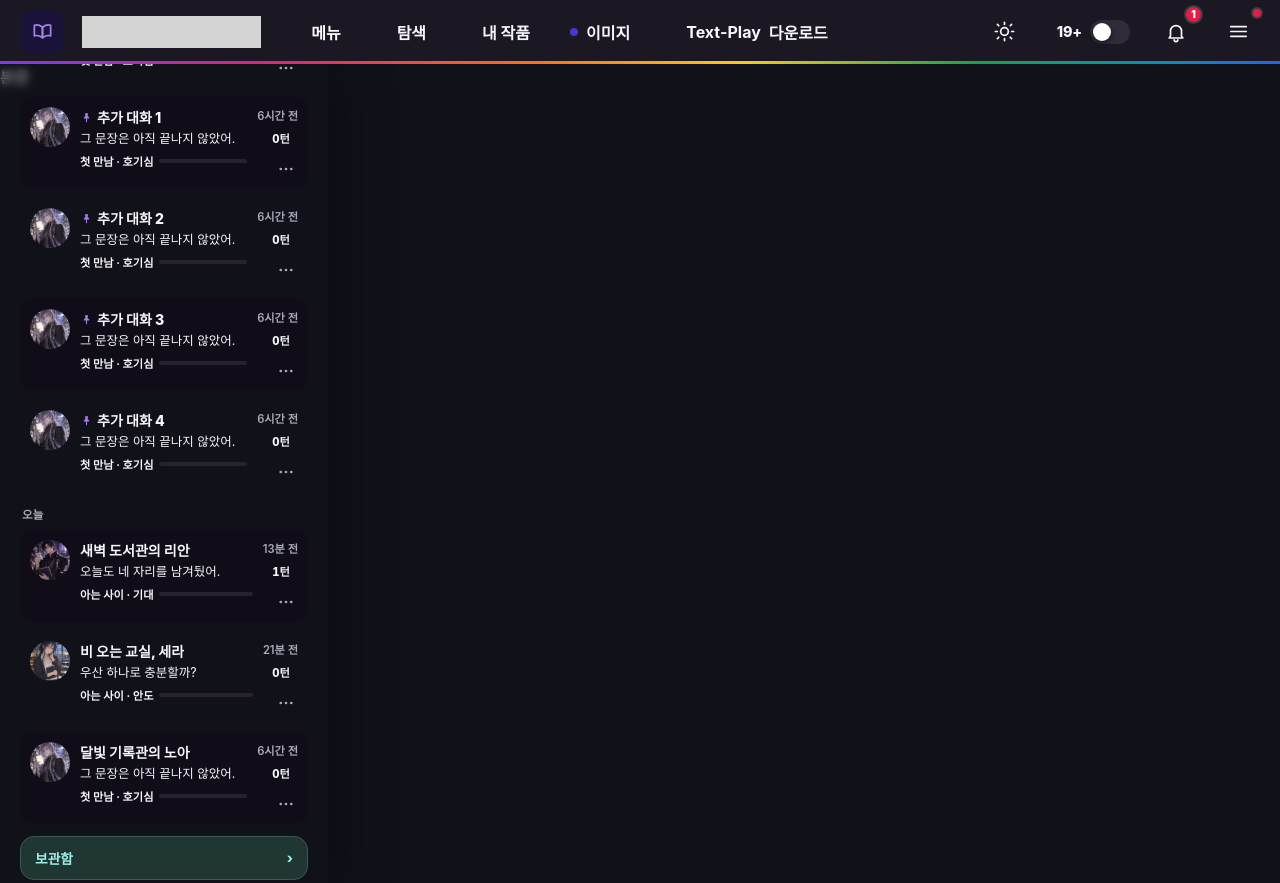
Test case: 왼쪽 대화방 창 › 고정이 5개면 더 고정하지 않고 안내한다
(page scrolled)
Click the button named "새벽 도서관의 리안 더보기" at (286, 602), box [270, 588, 302, 616]
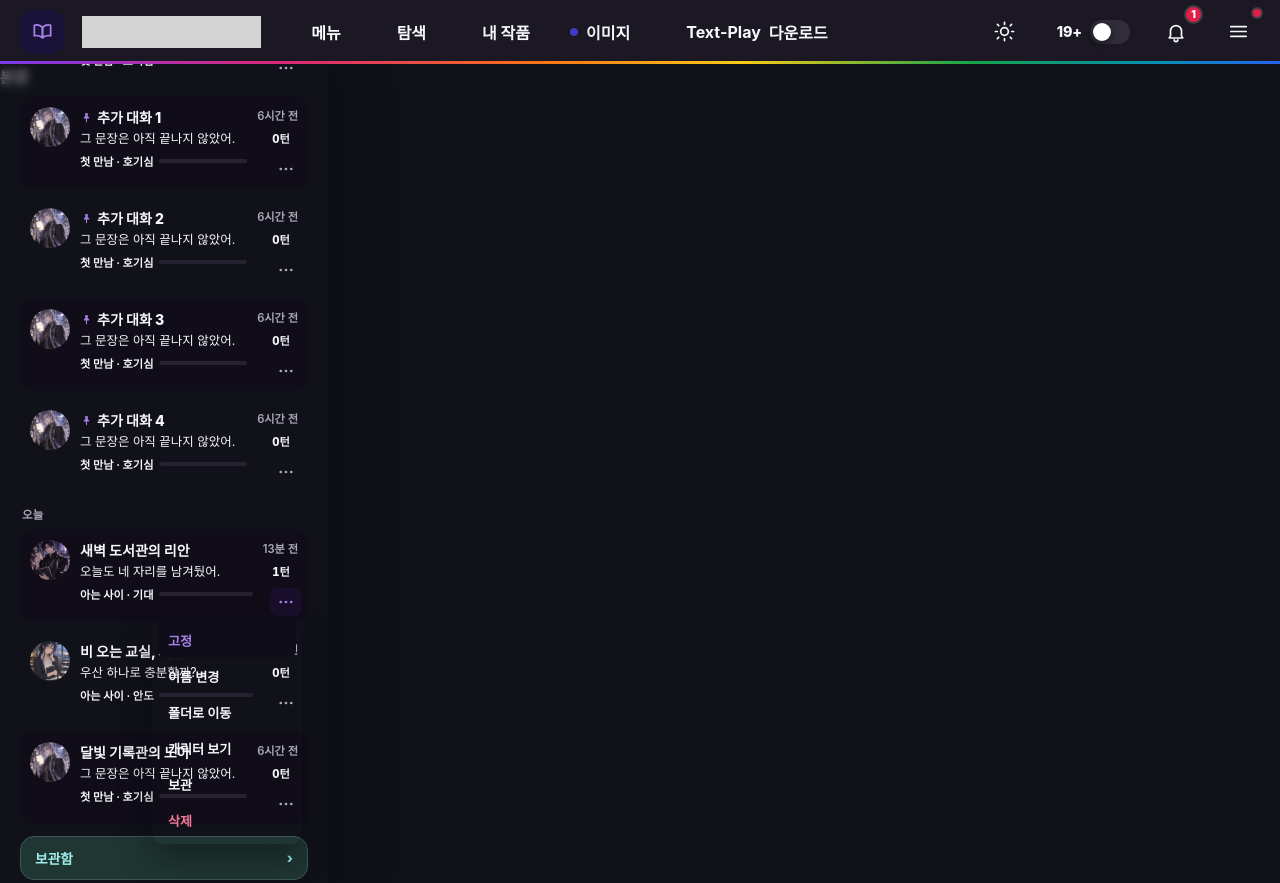
Click the menu item "고정" at (227, 640), box [158, 622, 296, 658]
(page scrolled)
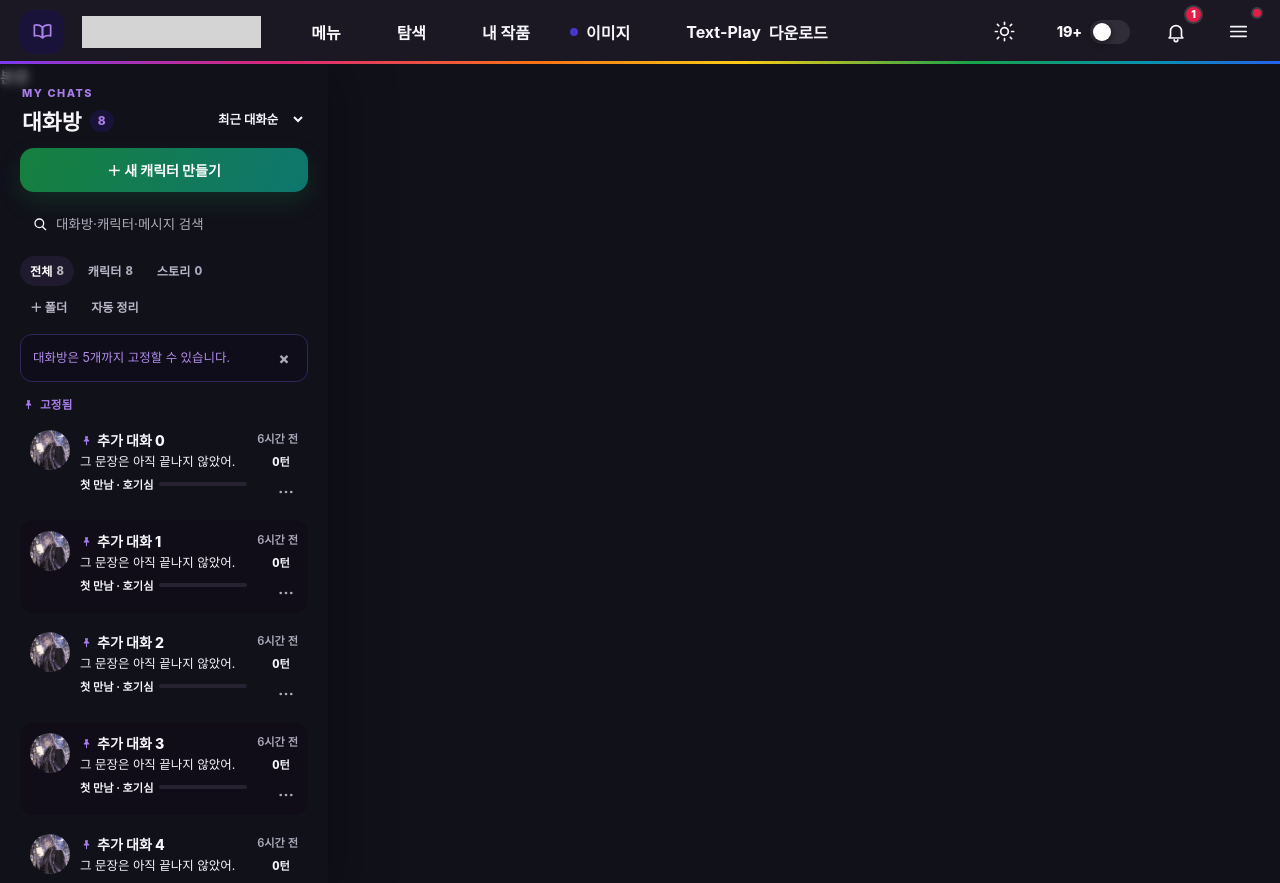
Result: the message shows "대화방은 5개까지 고정할 수 있습니다." at [33, 350, 230, 365]
